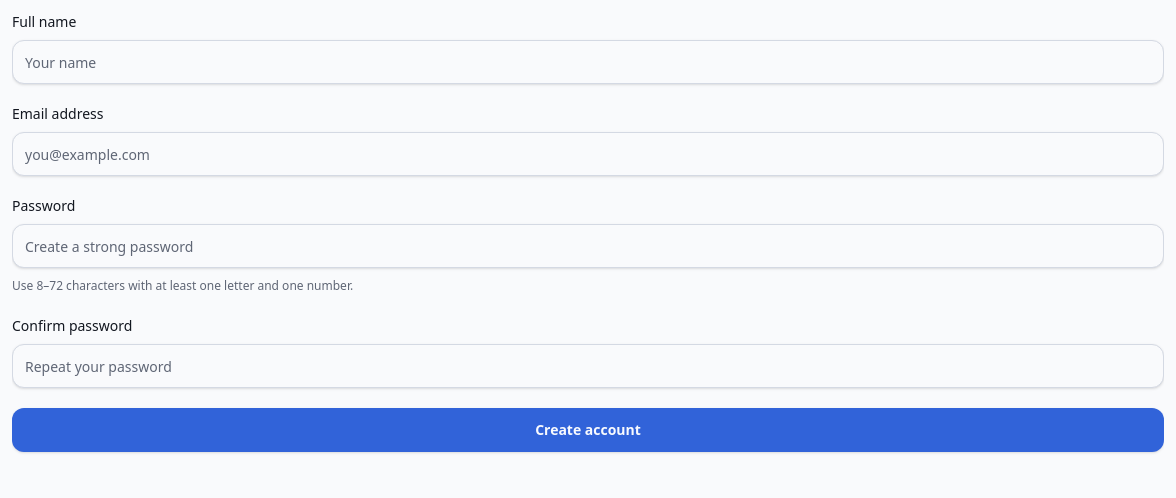
authentication forms › shows registration password confirmation errors without submitting
Type "Editorial Owner" into the field labelled "Full name" at (588, 62), box [12,40,1164,84]
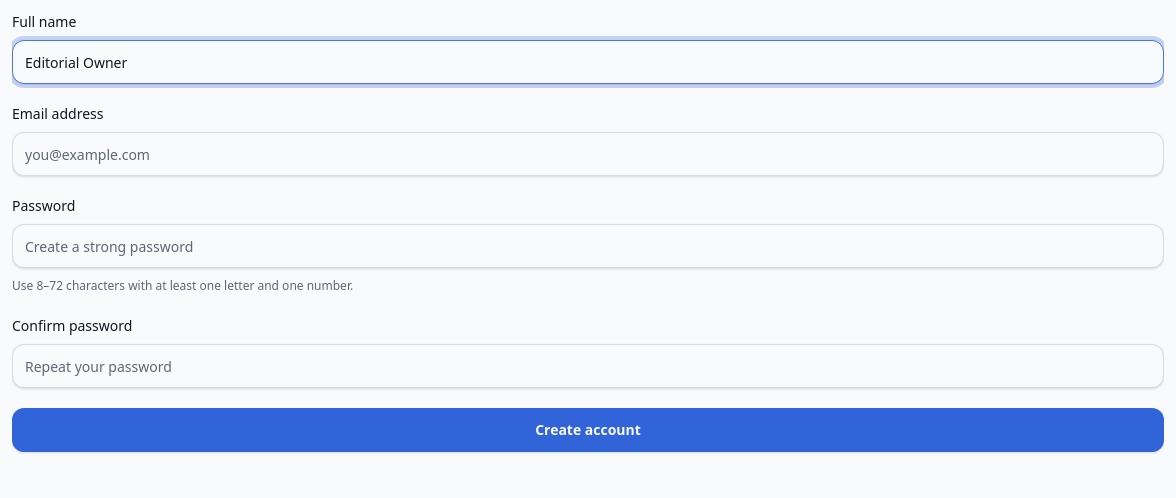
Type "owner@example.com" into the field labelled "Email address" at (588, 154), box [12,132,1164,176]
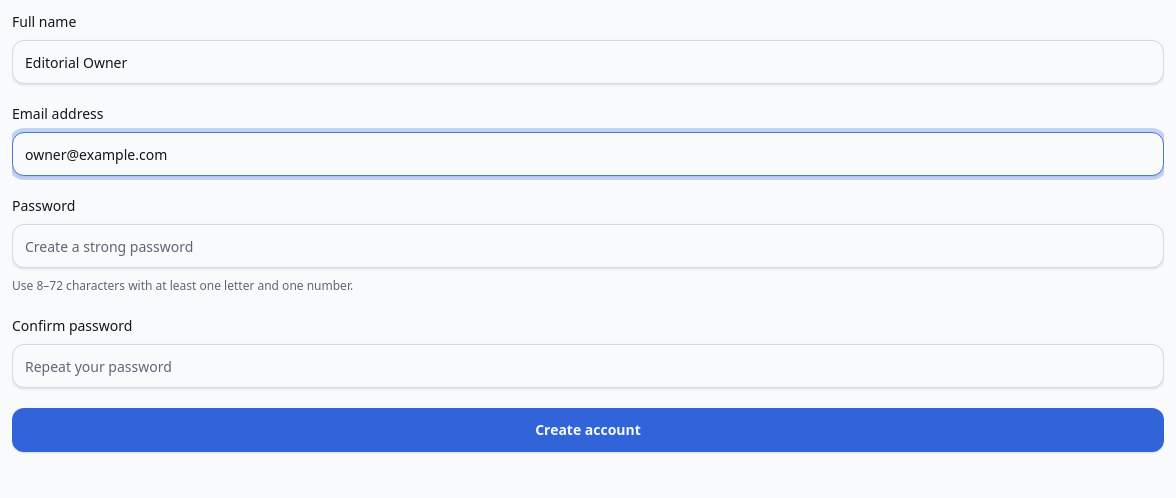
Type "password1" into the password field labelled "Password" at (588, 246), box [12,224,1164,268]
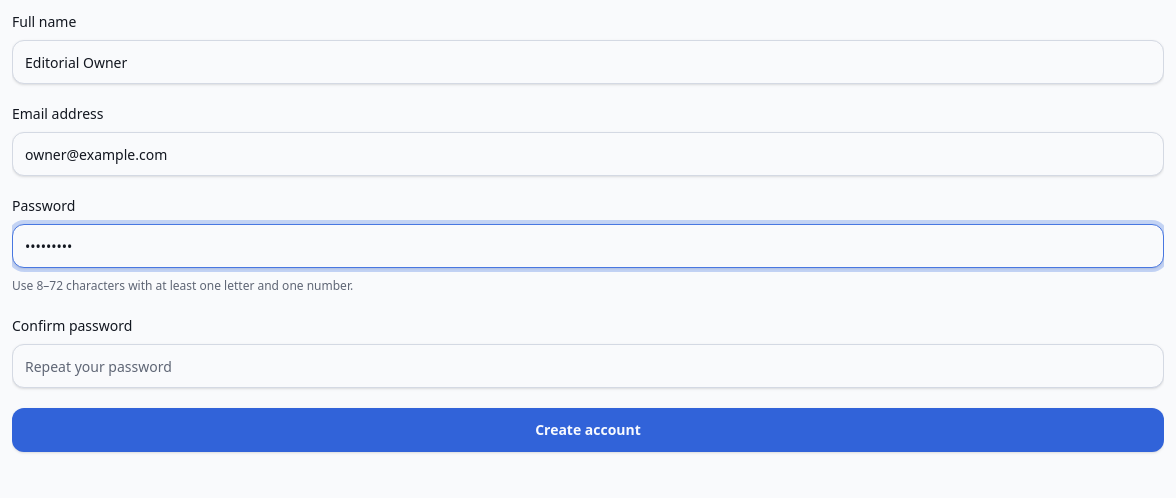
Type "password2" into the password field labelled "Confirm password" at (588, 366), box [12,344,1164,388]
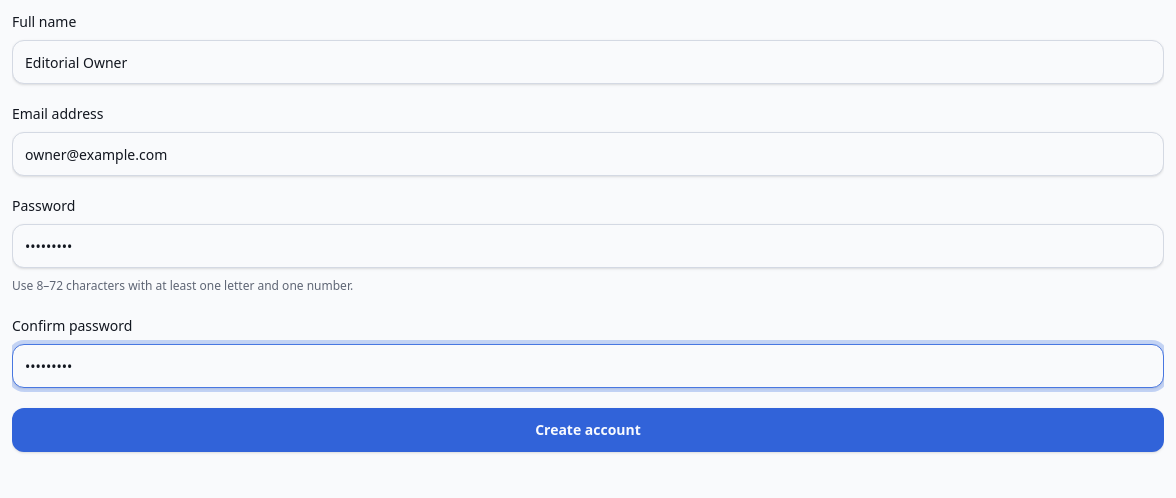
Click the button "Create account" at (588, 430), box [12,408,1164,452]
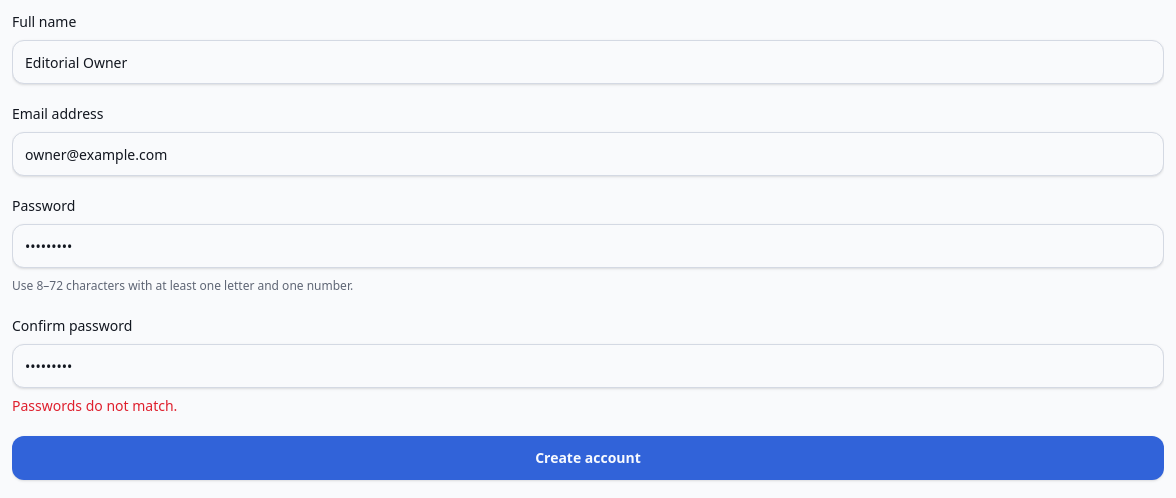
Check: the text "Passwords do not match." is shown, box [12,396,177,415]
